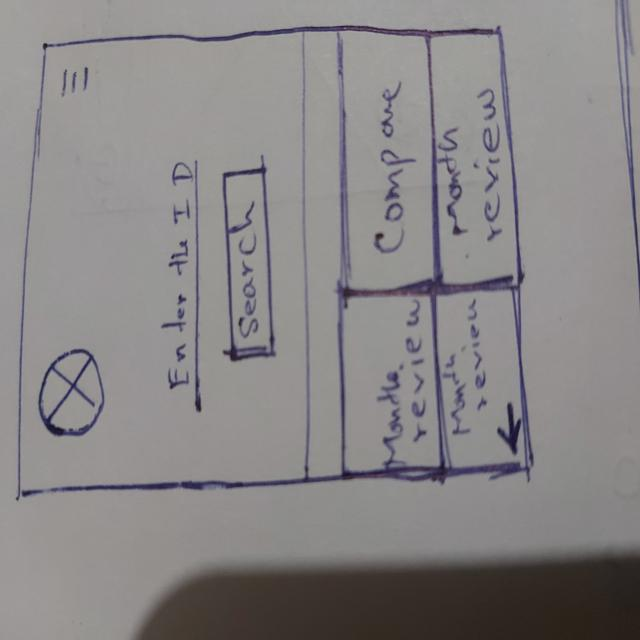BackButton: (490, 400, 527, 464)
Button: (336, 27, 439, 292), (425, 34, 522, 292), (331, 293, 445, 474), (432, 291, 531, 472), (217, 165, 286, 364)
DrawerToggleButton: (61, 65, 104, 100)
EditText: (163, 155, 207, 422)
Layout: (334, 22, 533, 476)
MainLayout: (8, 18, 543, 501)
RoundedImage: (40, 345, 110, 442)
